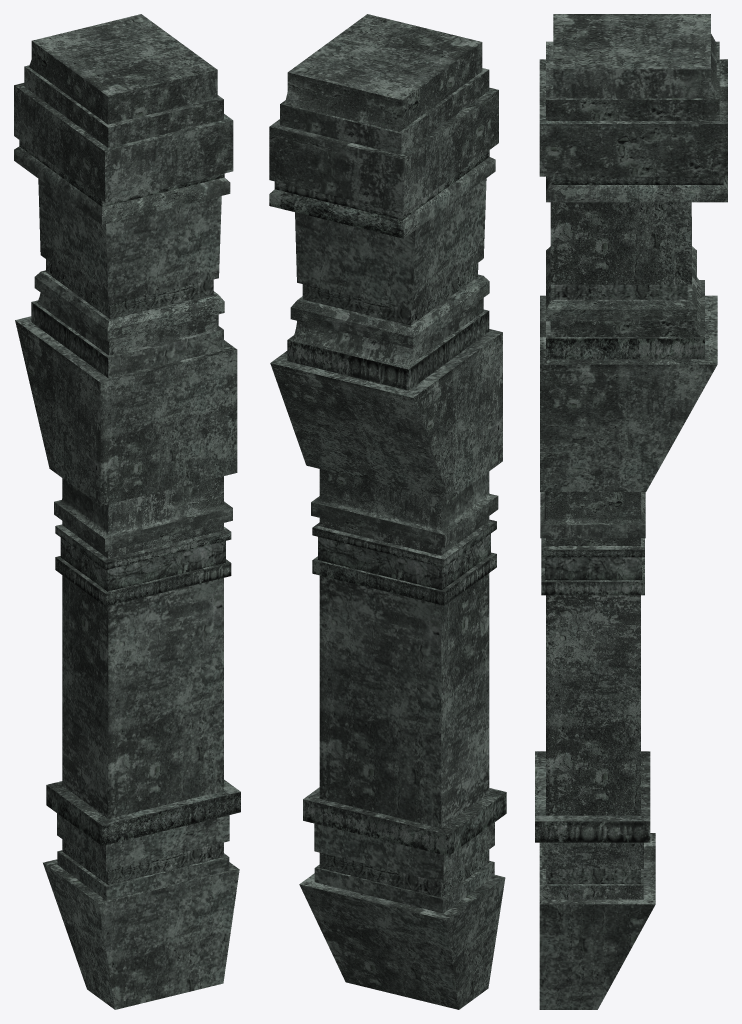
The model's file is mg_9_pillar_3.fbx.
The picture shows the model from 3 angles, left to right: view 1: azimuth 30°, elevation 25°; view 2: azimuth 150°, elevation 25°; view 3: azimuth 270°, elevation 25°; orthographic projection. The views are drawn at different scales.
Visible parts, largest first — view 1: mg_9_pillar_3; view 2: mg_9_pillar_3; view 3: mg_9_pillar_3.
Boxes of the visible parts, box(x1,y1,x2,y2) form: mg_9_pillar_3: box(14, 14, 240, 1009); mg_9_pillar_3: box(269, 14, 506, 1009); mg_9_pillar_3: box(535, 14, 727, 1009).
Size of the model in its own units: 304 by 1878 by 349.
